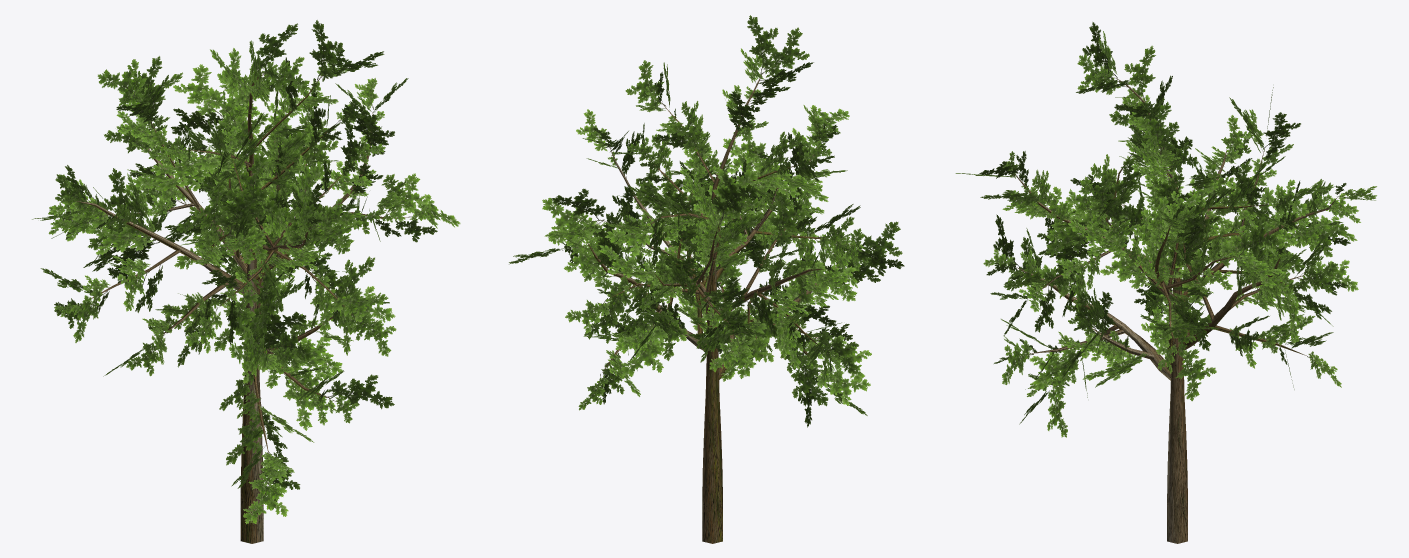
The model's file is oak.glb.
3 views of the same model, side by side, from view 1: azimuth 30°, elevation 25°; view 2: azimuth 150°, elevation 25°; view 3: azimuth 270°, elevation 25° (orthographic). The views are drawn at different scales.
Bounding box in the file's own units: 12.23 × 16 × 12.85.
Materials: 2 (2 with a texture image).
